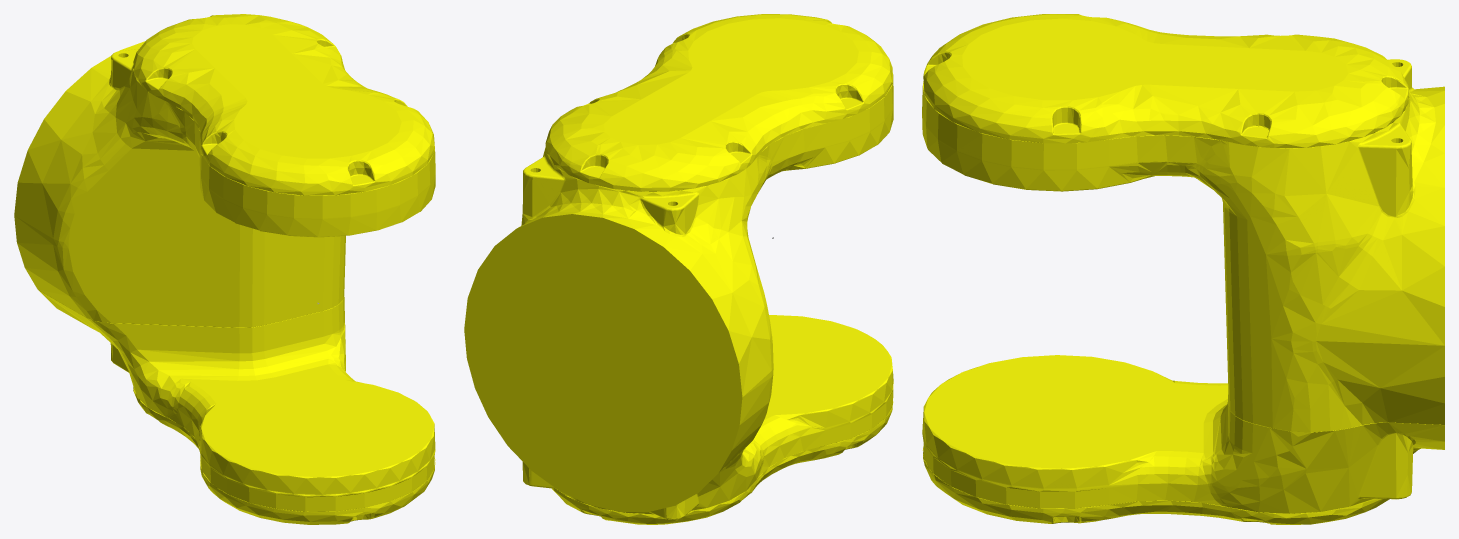
3 views of the same model, side by side, from view 1: azimuth 30°, elevation 25°; view 2: azimuth 150°, elevation 25°; view 3: azimuth 270°, elevation 25° (orthographic). The views are drawn at different scales.
Parts seen in each view (by area): view 1: node; view 2: node; view 3: node.
Part boxes in pixels (x1,y1,x2,y2): node: [14, 14, 435, 524]; node: [464, 14, 893, 524]; node: [922, 14, 1444, 524].
Size of the model in its own units: 150 by 190 by 215.
